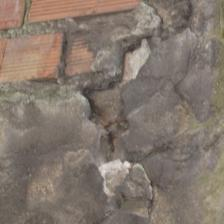Crack: (72, 38, 167, 224), (19, 22, 135, 82)
